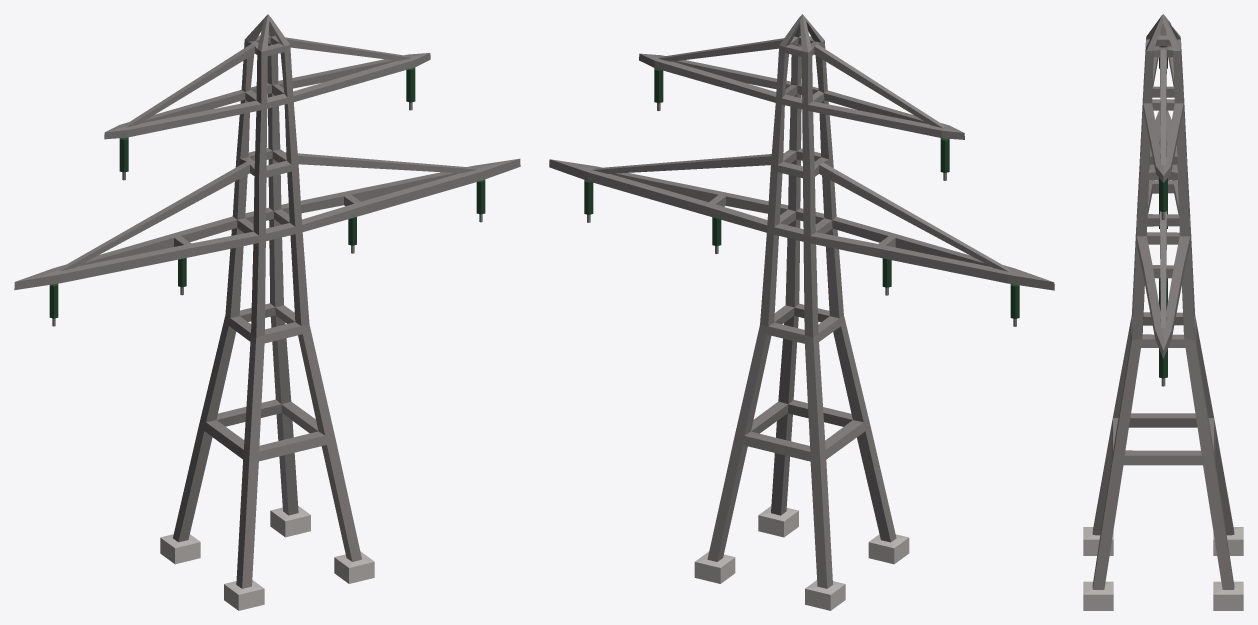
The model's file is buildings-power-line-pole.glb.
3 views of the same model, side by side, from view 1: azimuth 30°, elevation 25°; view 2: azimuth 150°, elevation 25°; view 3: azimuth 270°, elevation 25° (orthographic). The views are drawn at different scales.
Parts seen in each view (by area): view 1: power_line_pole; view 2: power_line_pole; view 3: power_line_pole.
Part boxes in pixels (x1=…): power_line_pole: x1=14, y1=14, x2=520, y2=610; power_line_pole: x1=549, y1=14, x2=1054, y2=610; power_line_pole: x1=1083, y1=14, x2=1243, y2=610.
Size of the model in its own units: 13.77 by 14.35 by 3.7.
